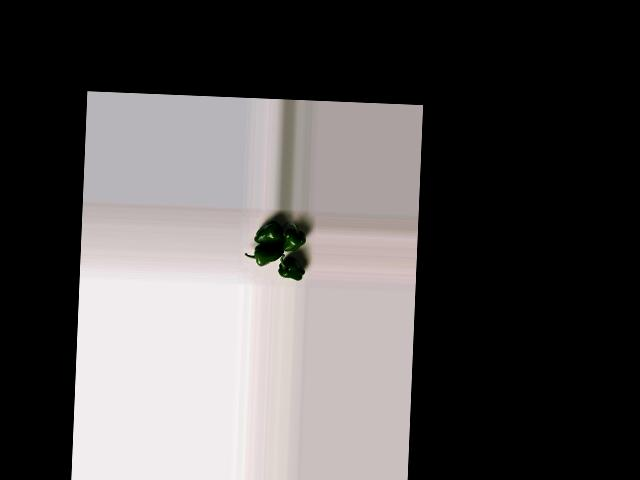bell_pepper: (284, 223, 306, 253)
